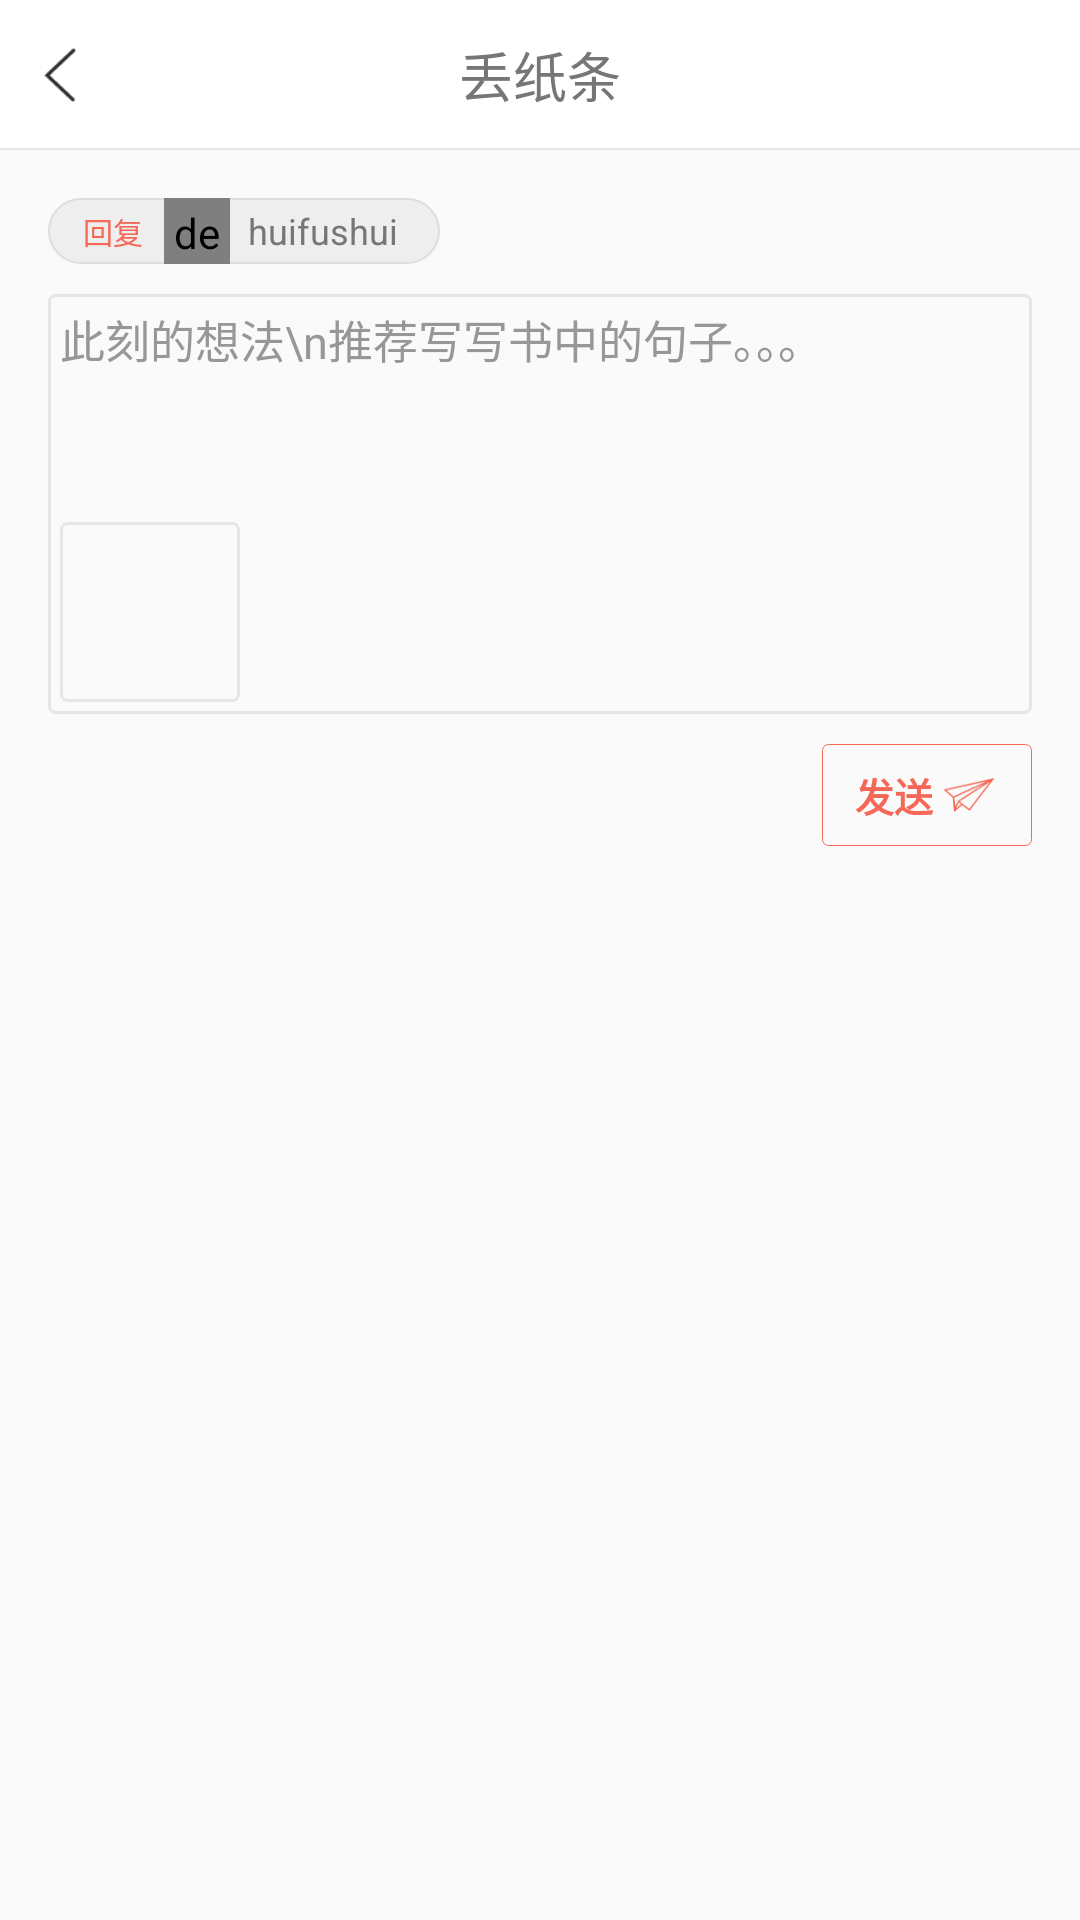

Icons on this 1080×1920 Android screen, each with the point to tap as (x=x, y=y):
back: (x=60, y=75)
zhifeiji: (x=969, y=795)
